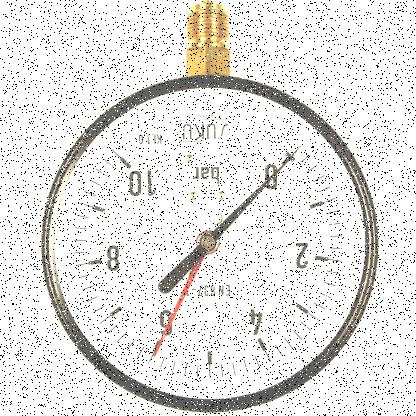needle: (209, 148, 299, 240)
